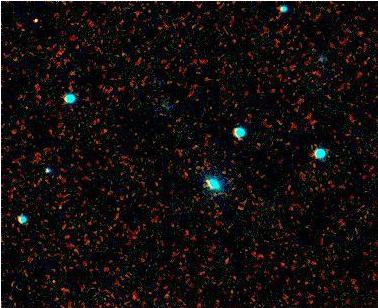star: (14, 4, 44, 34)
